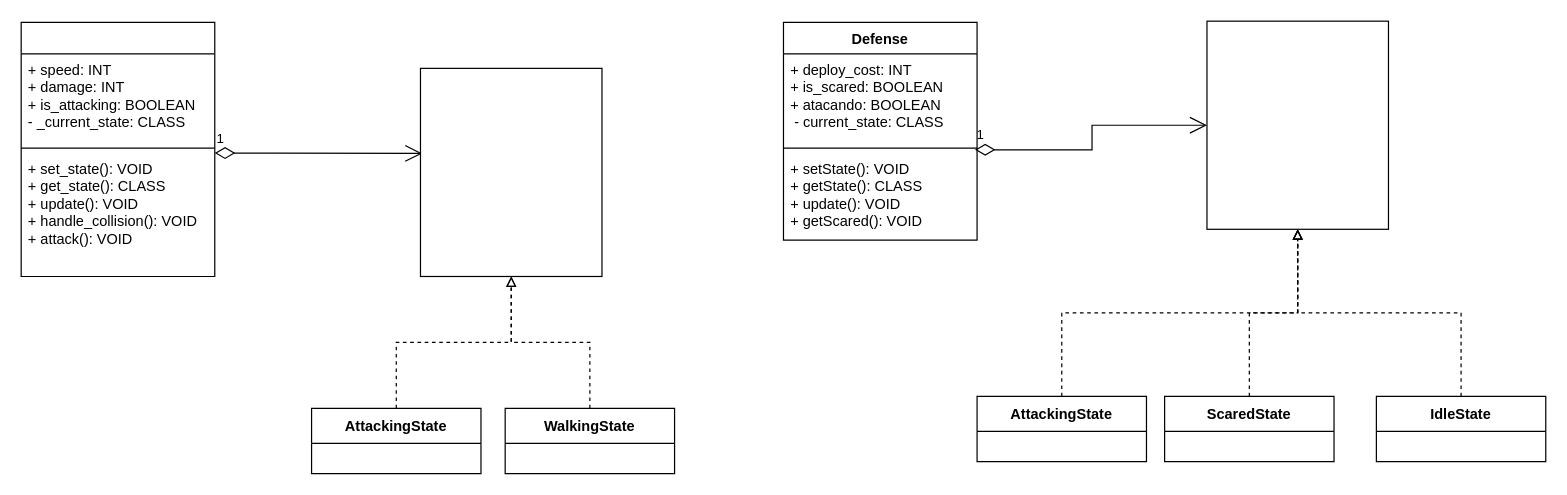
This 1567x495 diagram has some shape labels left out. The box of each missing label's shape, as (x1, y1, x2, y2) in pixels:
<<Interface>> IDefenseState + enter(): VOID + exit(): VOID + update(): VOID: (1206, 20, 1388, 229)
<<Interface>> IEnemyState + enter(): VOID + exit(): VOID + update(): VOID: (419, 67, 602, 276)
Enemy: (20, 21, 215, 276)
